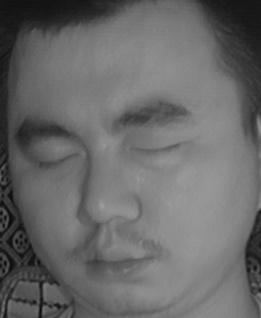blink: (126, 131, 181, 168), (34, 142, 82, 177)
mouth: (74, 232, 160, 286)
